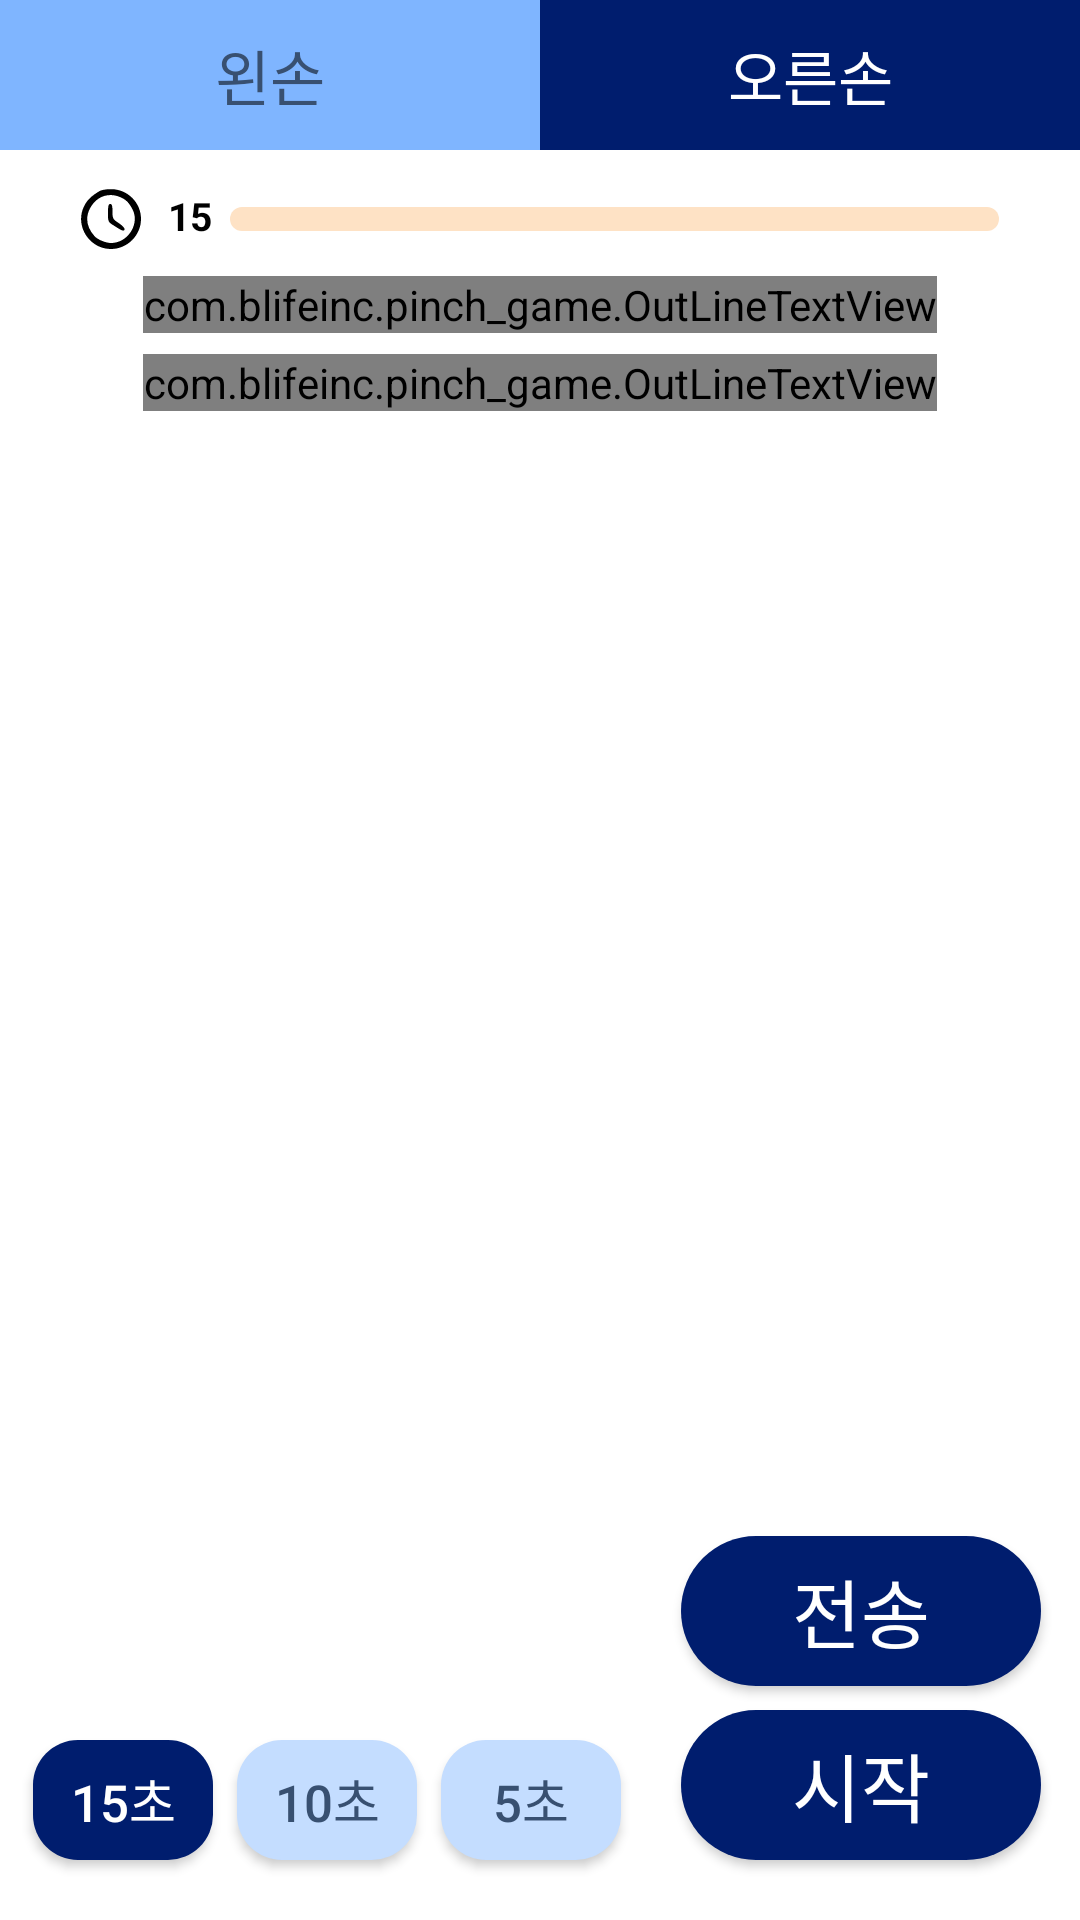

Point at icon controls on the screen. Image size 1080 × 1920, points as (x,y).
clock: (111,219)
